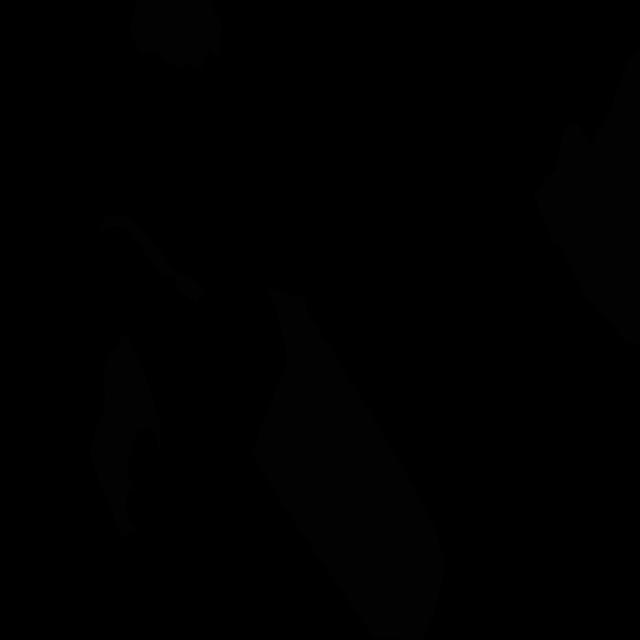cardboard: (251, 289, 444, 640), (534, 46, 640, 345), (89, 333, 161, 538), (99, 214, 205, 305), (130, 0, 222, 71)
